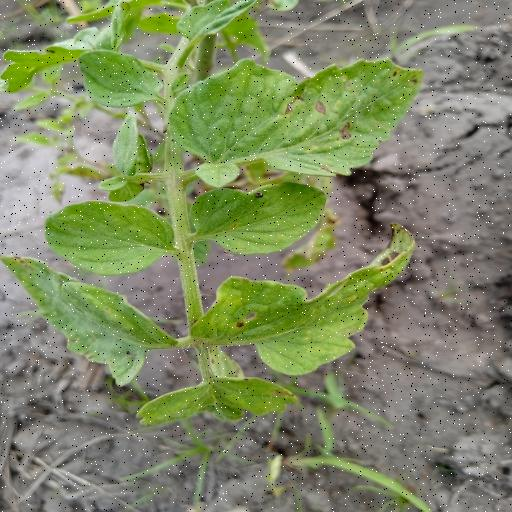Tomato_Brown_Spots: (190, 222, 430, 379), (160, 54, 424, 188), (0, 247, 174, 388)
